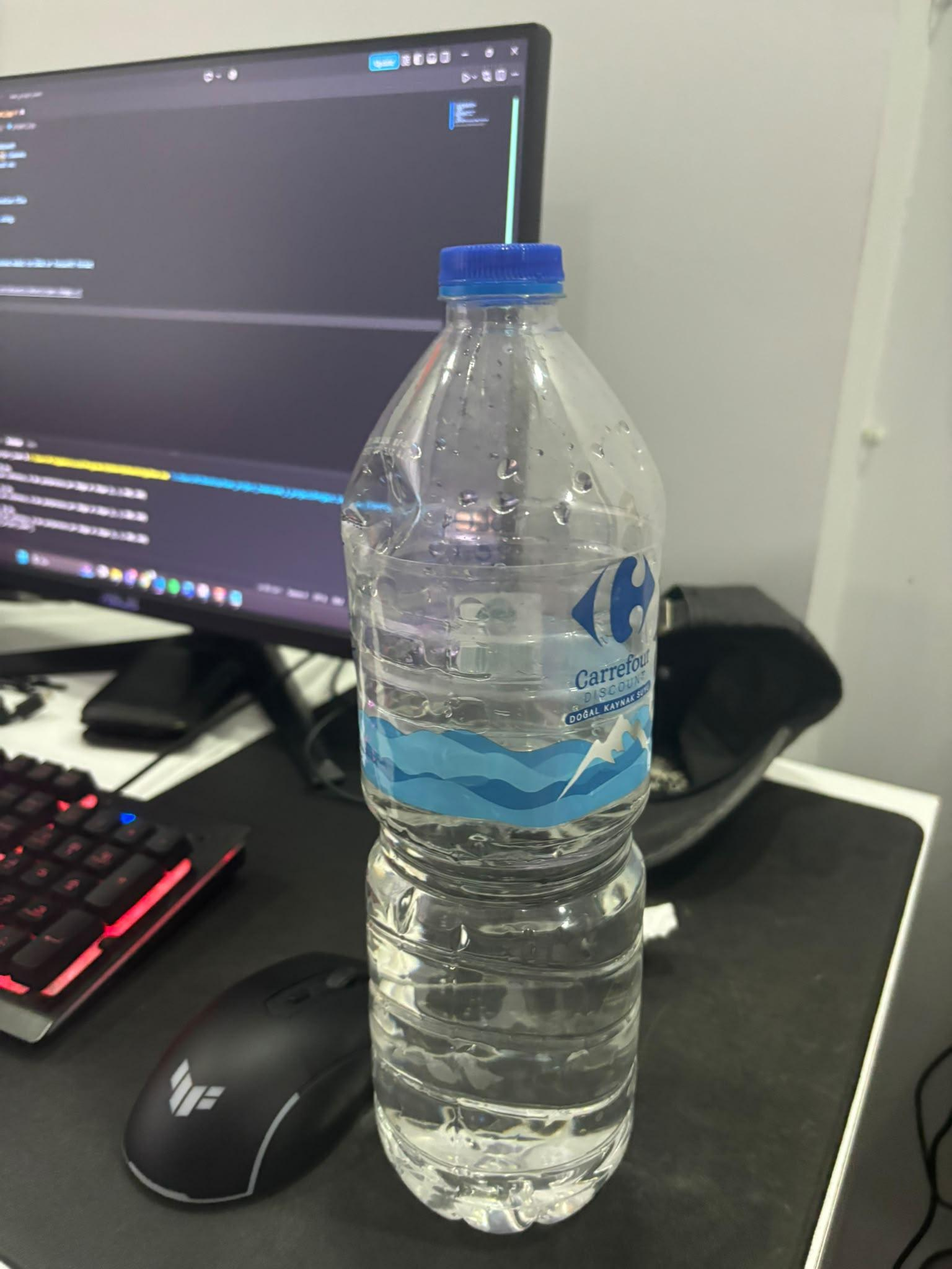cable: (889, 1022, 951, 1268)
keyboard: (0, 749, 251, 1044)
mouse: (121, 951, 373, 1206)
water bottel: (341, 242, 667, 1236)
